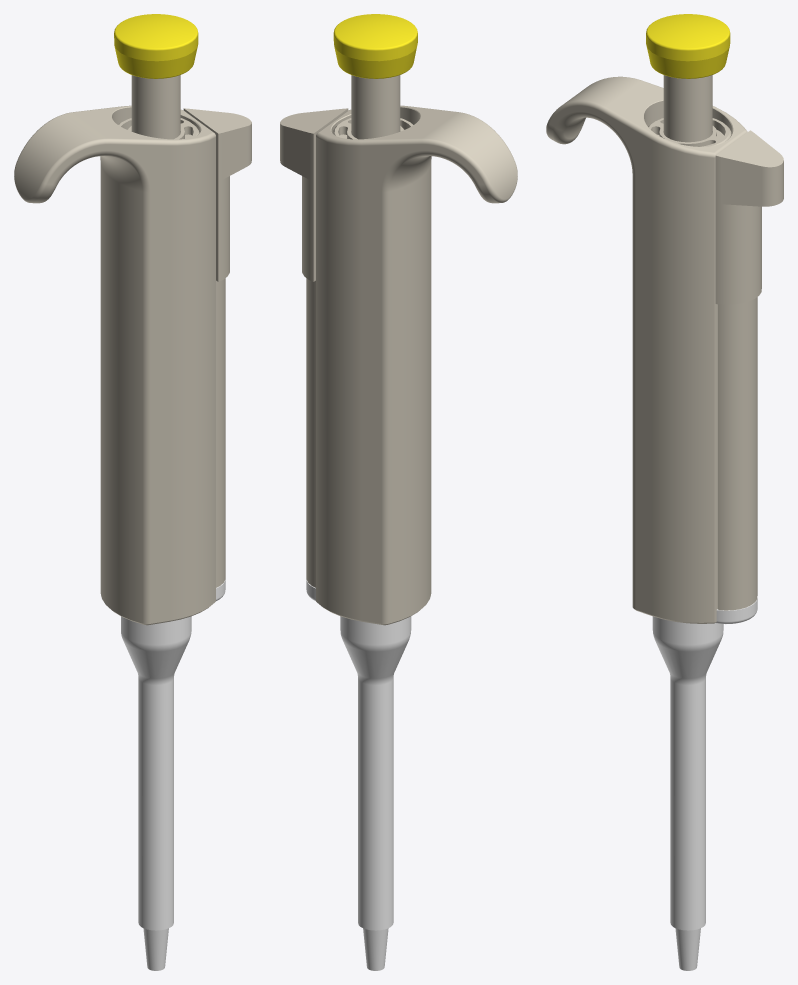
File: ppt1.fbx
The picture shows the model from 3 angles, left to right: view 1: azimuth 30°, elevation 25°; view 2: azimuth 150°, elevation 25°; view 3: azimuth 330°, elevation 25°; orthographic projection.
Parts seen in each view (by area): view 1: cream low gloss plastic, white low gloss plastic, yellow low gloss plastic; view 2: cream low gloss plastic, white low gloss plastic, yellow low gloss plastic; view 3: cream low gloss plastic, white low gloss plastic, yellow low gloss plastic.
Boxes of the visible parts, box(x1,y1,x2,y2) form: cream low gloss plastic: box(14, 75, 251, 625); white low gloss plastic: box(121, 579, 225, 970); yellow low gloss plastic: box(114, 14, 198, 78); cream low gloss plastic: box(280, 75, 517, 625); white low gloss plastic: box(306, 579, 411, 970); yellow low gloss plastic: box(333, 14, 417, 78); cream low gloss plastic: box(546, 75, 783, 623); white low gloss plastic: box(652, 598, 757, 970); yellow low gloss plastic: box(646, 14, 730, 78).
Bounding box in the file's own units: 5.88 × 23.4 × 2.3.
